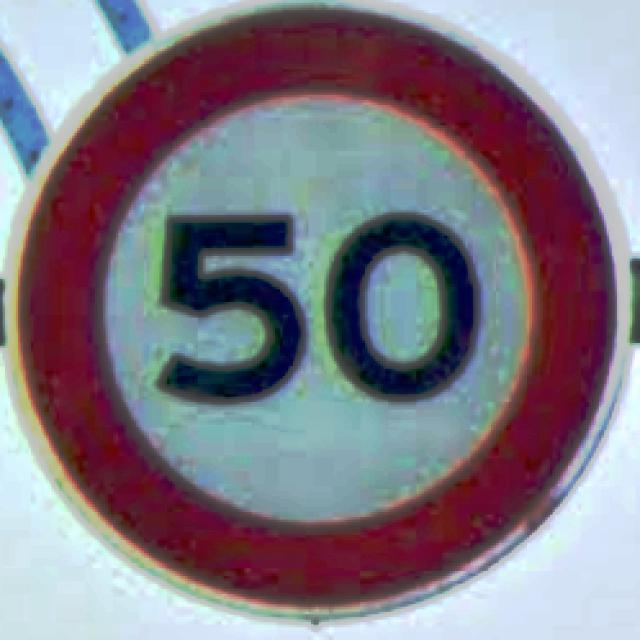max50: (0, 0, 635, 622)
